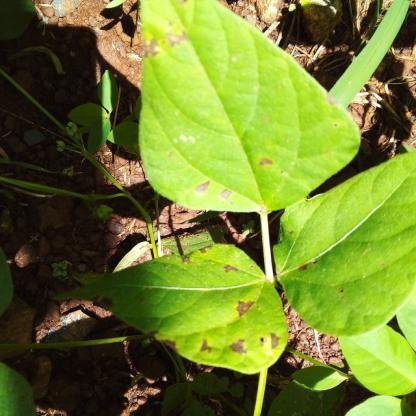Beans_Angular_LeafSpot: (131, 2, 360, 214), (64, 240, 288, 374), (280, 149, 414, 340)
